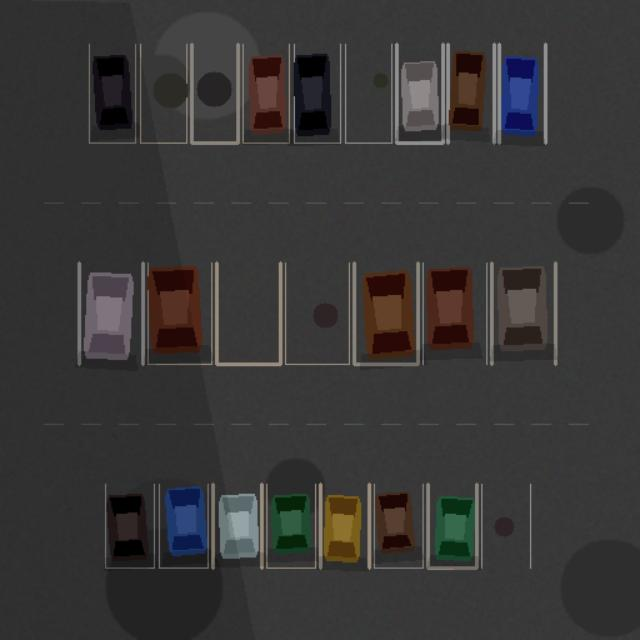space-empty: (216, 263, 280, 364), (285, 263, 349, 364), (191, 44, 238, 143), (140, 44, 186, 143), (345, 44, 391, 143), (481, 484, 530, 567)
space-occupied: (79, 263, 143, 364), (147, 263, 211, 364), (491, 263, 555, 364), (354, 263, 417, 364), (423, 263, 486, 364), (242, 44, 289, 143), (89, 44, 135, 143), (294, 44, 340, 143), (396, 44, 442, 143), (448, 44, 494, 143), (499, 44, 545, 143), (105, 484, 154, 567), (159, 484, 208, 567), (212, 484, 261, 567), (266, 484, 315, 567), (320, 484, 369, 567), (374, 484, 422, 567), (428, 484, 476, 567)
